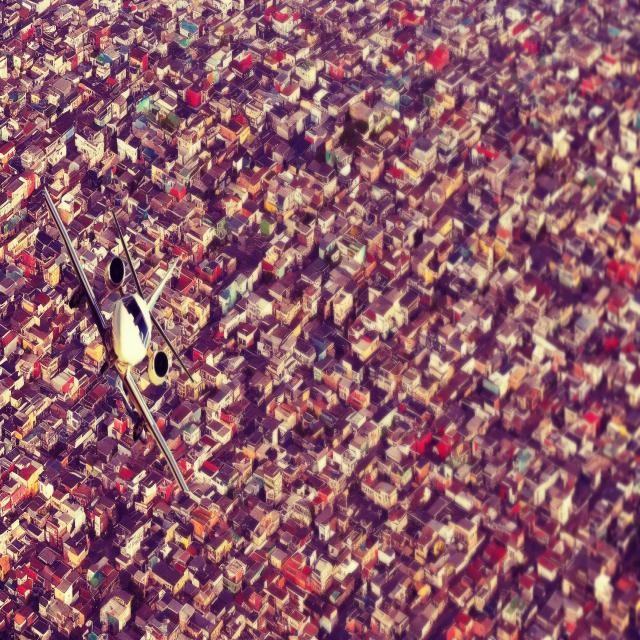airplane: (42, 183, 192, 505)
